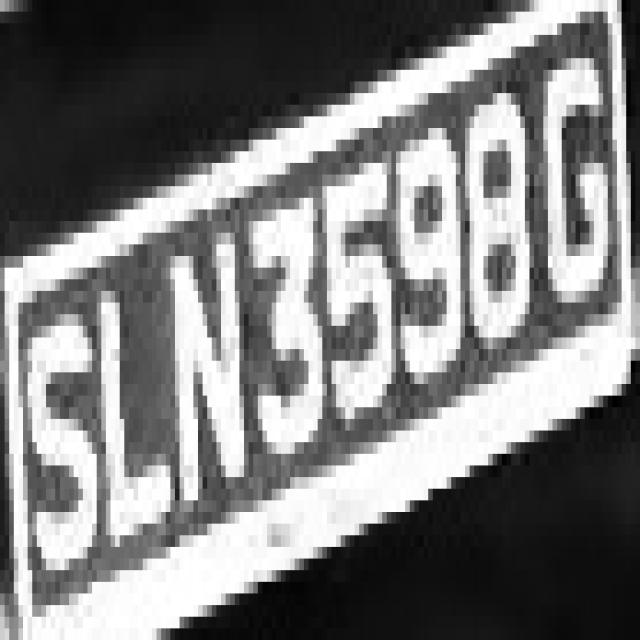3: (253, 163, 332, 465)
5: (322, 140, 396, 407)
8: (456, 70, 539, 372)
9: (377, 105, 456, 384)
G: (534, 35, 617, 349)
L: (97, 244, 184, 582)
N: (156, 198, 248, 500)
S: (18, 268, 106, 605)
